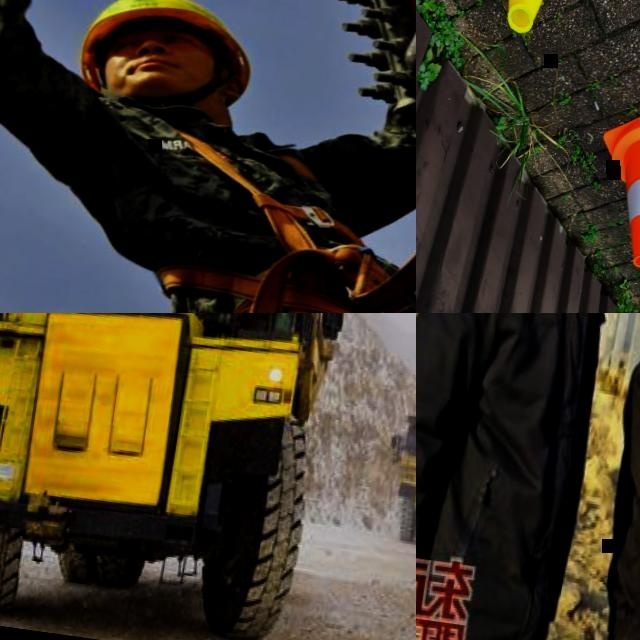NO-Mask: (108, 39, 240, 99)
NO-Safety Vest: (416, 313, 610, 640), (102, 105, 375, 313), (603, 353, 640, 635)
Person: (0, 0, 416, 313), (416, 313, 640, 640), (71, 0, 262, 108), (585, 313, 640, 640)
Safety Cone: (582, 98, 640, 281), (453, 0, 623, 44)
machinery: (0, 313, 370, 640), (375, 398, 416, 564)
